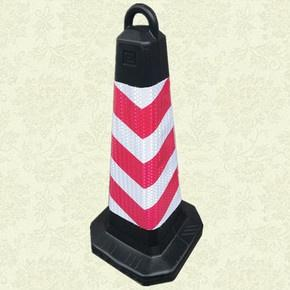cone_barrel: (87, 6, 202, 273)
